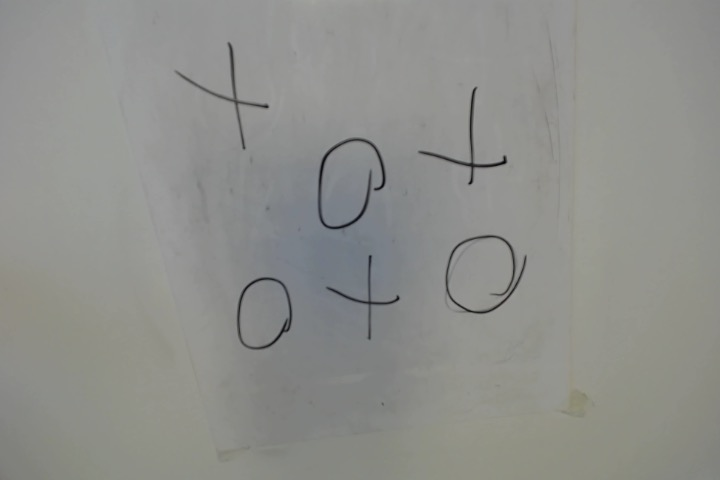0: (440, 233, 532, 317), (311, 136, 388, 232), (232, 275, 298, 352)
x: (422, 87, 518, 198), (181, 47, 269, 158), (331, 258, 405, 341)
